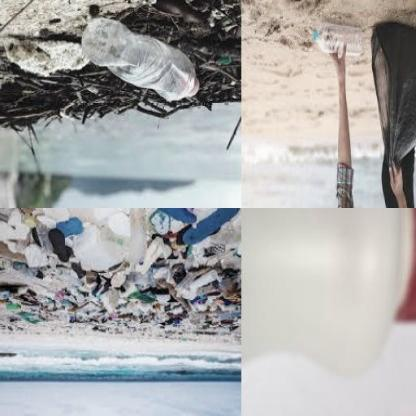plastic bag: (369, 23, 416, 164)
plastic bottle: (81, 19, 200, 102), (310, 26, 368, 57)
